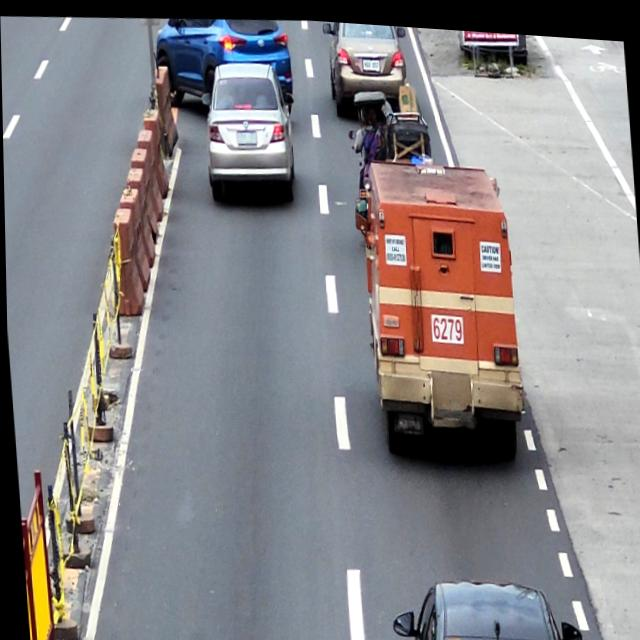Car: (353, 146, 525, 465), (199, 54, 299, 204), (152, 9, 294, 111), (322, 17, 411, 116)
License-Plate: (236, 127, 257, 142), (362, 52, 380, 67)
Tricycle: (346, 82, 432, 164)
